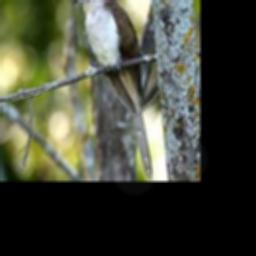Cuckoo: (71, 0, 152, 179)
